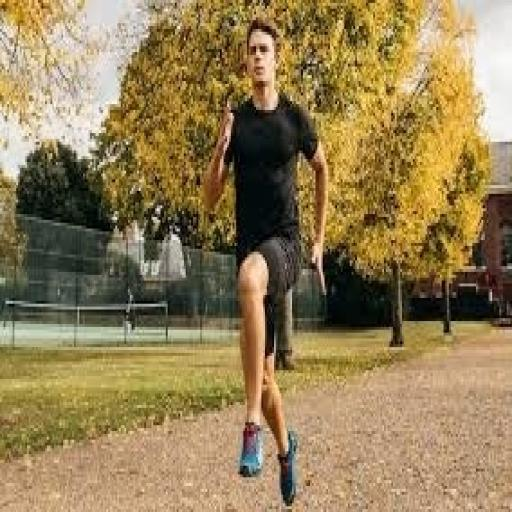running: (200, 15, 332, 509)
